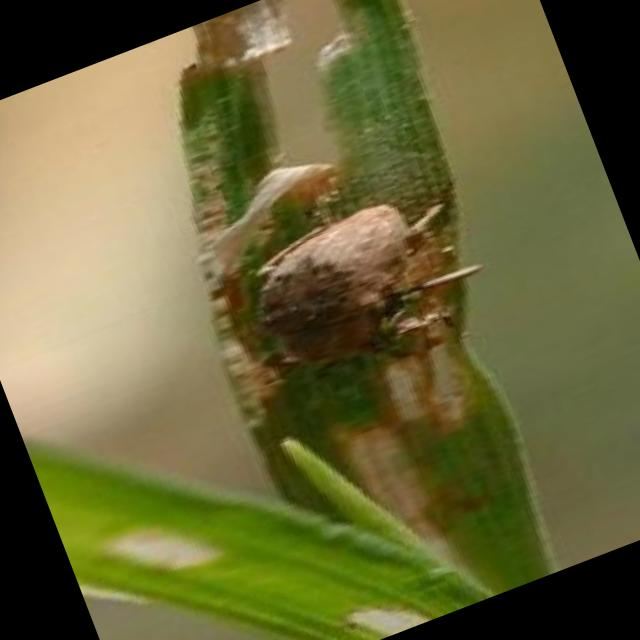rice-bug: (210, 173, 500, 409)
